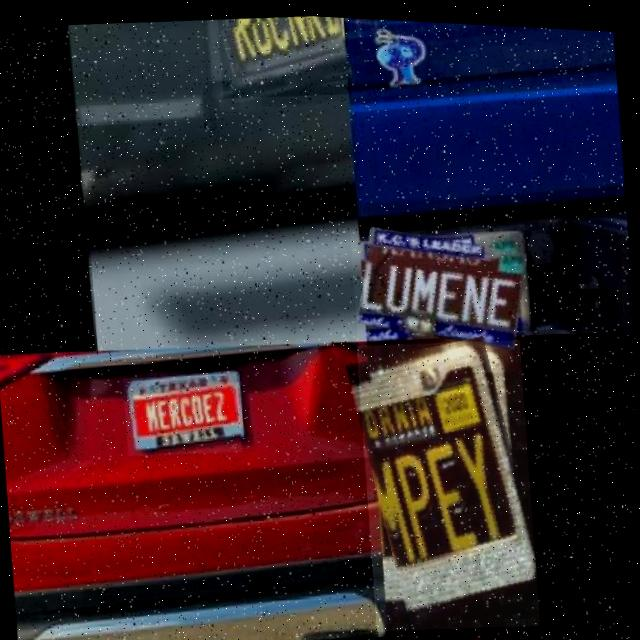LicensePlate: (353, 327, 546, 634), (357, 226, 527, 344), (216, 9, 351, 100), (125, 371, 242, 454)
